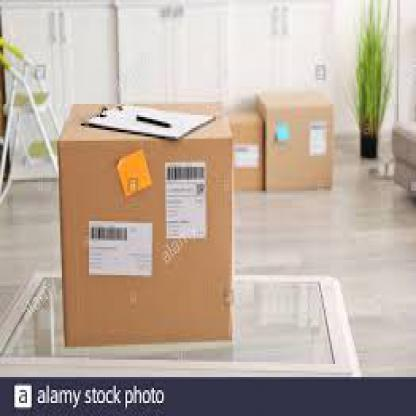paquete: (54, 95, 238, 353), (251, 85, 336, 197), (216, 100, 271, 204)
